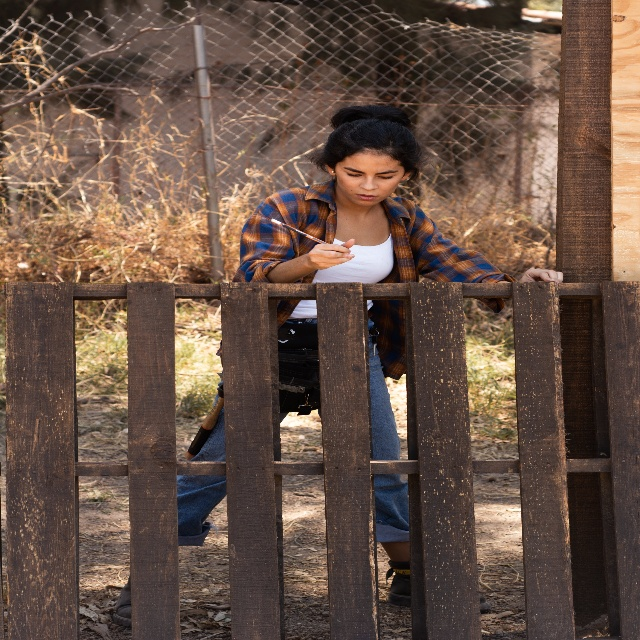Sin_guantes: (308, 234, 356, 271), (518, 267, 564, 284)
